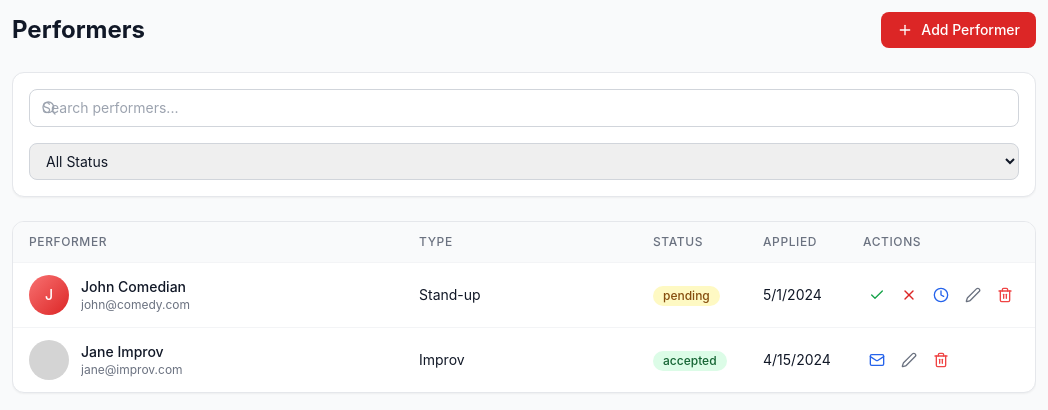
Performers › search functionality › filters performers by name
Expected: the text "John Comedian" is shown, [81,277,190,297]
Step 1. Type "John" into the field with placeholder "Search performers..." → (524, 108), box [29,89,1019,127]
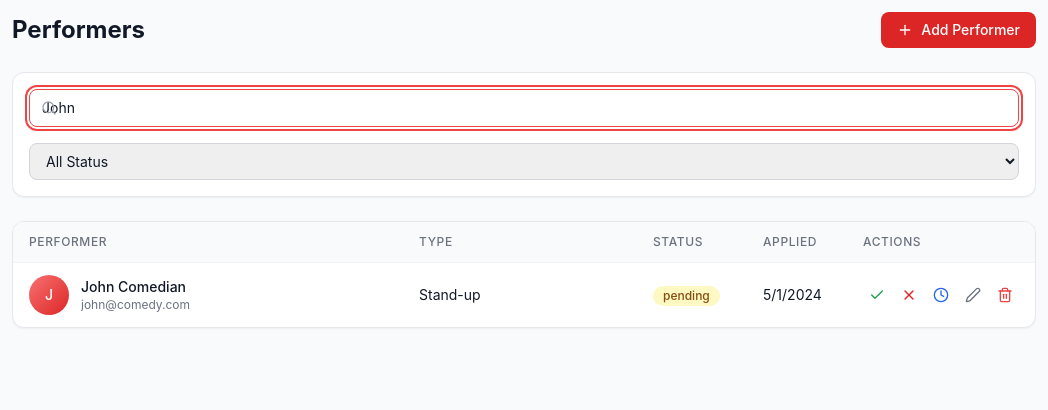
Expected: the text "John Comedian" is shown, [81,277,190,297]
Now the text "Jane Improv" is gone
